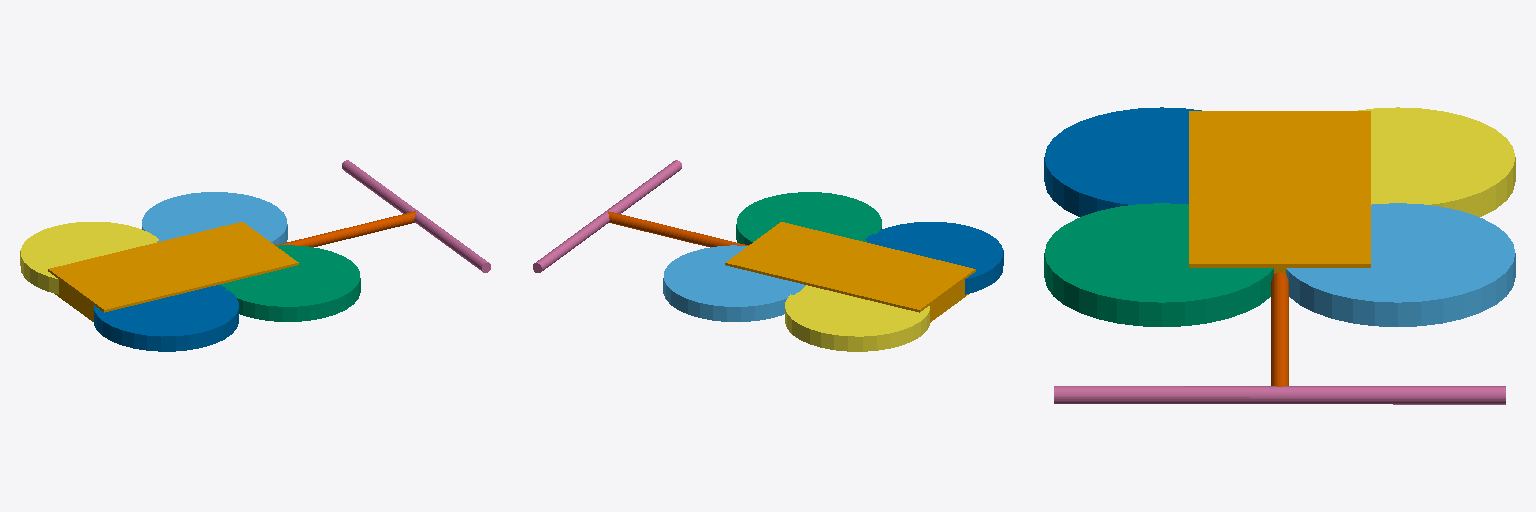
The robot description file, URDF, robot "drone":
<?xml version="1.0"?>
   <robot name="drone">

     <link name="base_link">
       <visual>
		 <origin xyz="0 0 0" rpy="0 0 0" />
         <geometry>
           <box size="0.4 0.2 0.04"/>
         </geometry>
       </visual>
       <collision>
		  <origin xyz="0 0 0" rpy="0 0 0" />
          <geometry>
            <box size="0.4 0.04 0.04"/>
          </geometry>
        </collision>
        <!--<inertial>
           <mass value="0.3"/>
           <inertia ixx="1.0" ixy="0.0" ixz="0.0" iyy="1.0" iyz="0.0" izz="1.0"/>
         </inertial>-->
     </link>

     <link name="FL">
       <visual>
		 <origin xyz="0.16 0.13 0" rpy="0 0 0" />
         <geometry>
            <cylinder length="0.03" radius="0.13"/>
         </geometry>
       </visual>
       <collision>
          <origin xyz="0.16 0.13 0" rpy="0 0 0" />
          <geometry>
            <cylinder length="0.03" radius="0.13"/>
          </geometry>
        </collision>
        <inertial>
           <mass value="0.2"/>
           <inertia ixx="1.0" ixy="0.0" ixz="0.0" iyy="1.0" iyz="0.0" izz="1.0"/>
         </inertial>
     </link>
     <link name="FR">
       <visual>
		 <origin xyz="0.16 -0.13 0" rpy="0 0 0" />
         <geometry>
            <cylinder length="0.03" radius="0.13"/>
         </geometry>
       </visual>
       <collision>
          <origin xyz="0.16 -0.13 0" rpy="0 0 0" />
          <geometry>
            <cylinder length="0.03" radius="0.13"/>
          </geometry>
        </collision>
        <inertial>
           <mass value="0.2"/>
           <inertia ixx="1.0" ixy="0.0" ixz="0.0" iyy="1.0" iyz="0.0" izz="1.0"/>
         </inertial>
     </link>
     <link name="BL">
       <visual>
		 <origin xyz="-0.09 0.13 0" rpy="0 0 0" />
         <geometry>
            <cylinder length="0.03" radius="0.13"/>
         </geometry>
       </visual>
       <collision>
          <origin xyz="-0.09 0.13 0" rpy="0 0 0" />
          <geometry>
            <cylinder length="0.03" radius="0.13"/>
          </geometry>
        </collision>
        <inertial>
           <mass value="0.2"/>
           <inertia ixx="1.0" ixy="0.0" ixz="0.0" iyy="1.0" iyz="0.0" izz="1.0"/>
         </inertial>
     </link>
     <link name="BR">
       <visual>
		 <origin xyz="-0.09 -0.13 0" rpy="0 0 0" />
         <geometry>
            <cylinder length="0.03" radius="0.13"/>
         </geometry>
       </visual>
       <collision>
          <origin xyz="-0.09 -0.13 0" rpy="0 0 0" />
          <geometry>
            <cylinder length="0.03" radius="0.13"/>
          </geometry>
        </collision>
        <inertial>
           <mass value="0.2"/>
           <inertia ixx="1.0" ixy="0.0" ixz="0.0" iyy="1.0" iyz="0.0" izz="1.0"/>
         </inertial>
     </link>
     
     <link name="stick1">
       <visual>
		 <origin xyz="0.25 0 0" rpy="0 1.57 0" />
         <geometry>
            <cylinder length="0.5" radius="0.01"/>
         </geometry>
       </visual>
       <collision>
          <origin xyz="0 0 0" rpy="0 0 0" />
          <geometry>
            <cylinder length="0.5" radius="0.01"/>
          </geometry>
        </collision>
        <inertial>
           <mass value="0.1"/>
           <inertia ixx="1.0" ixy="0.0" ixz="0.0" iyy="1.0" iyz="0.0" izz="1.0"/>
         </inertial>
     </link>
     <link name="stick2">
       <visual>
		 <origin xyz="0.5 0 0" rpy="1.57 0 0" />
         <geometry>
            <cylinder length="0.5" radius="0.01"/>
         </geometry>
       </visual>
       <collision>
          <origin xyz="0 0 0" rpy="0 0 0" />
          <geometry>
            <cylinder length="0.5" radius="0.01"/>
          </geometry>
        </collision>
        <inertial>
           <mass value="0.1"/>
           <inertia ixx="1.0" ixy="0.0" ixz="0.0" iyy="1.0" iyz="0.0" izz="1.0"/>
         </inertial>
     </link>
     
	 
     <joint name="base_to_FL" type="fixed">
       <parent link="base_link"/>
       <child link="FL"/>
     </joint>
     <joint name="base_to_FR" type="fixed">
       <parent link="base_link"/>
       <child link="FR"/>
     </joint>
     <joint name="base_to_BL" type="fixed">
       <parent link="base_link"/>
       <child link="BL"/>
     </joint>
     <joint name="base_to_BR" type="fixed">
       <parent link="base_link"/>
       <child link="BR"/>
     </joint>
     
     <joint name="base_to_stick1" type="fixed">
       <parent link="base_link"/>
       <child link="stick1"/>
     </joint>
     <joint name="stick1_to_stick2" type="fixed">
       <parent link="stick1"/>
       <child link="stick2"/>
     </joint>
     
     
   </robot>

--- What the picture shows (computed from the rendered views, not written in the file) ---
Views: 3 orthographic renders of the robot side by side, from view 1: azimuth 30°, elevation 25°; view 2: azimuth 150°, elevation 25°; view 3: azimuth 270°, elevation 25°.
Robot: drone — 7 links, 6 joints (6 fixed); root link base_link; default pose: every joint at zero.
Links seen in each view (by area): view 1: base_link, FR, BR, FL, BL, stick2, stick1; view 2: base_link, FL, BL, FR, BR, stick2, stick1; view 3: base_link, FL, FR, BL, BR, stick2, stick1.
Link boxes in pixels (bbox=[...]): base_link: bbox=[48, 222, 298, 321]; FR: bbox=[220, 245, 360, 321]; BR: bbox=[94, 285, 238, 351]; FL: bbox=[142, 192, 287, 244]; BL: bbox=[20, 222, 158, 294]; stick2: bbox=[342, 160, 490, 272]; stick1: bbox=[275, 211, 415, 246]; base_link: bbox=[725, 222, 975, 322]; FL: bbox=[663, 245, 805, 321]; BL: bbox=[785, 285, 929, 351]; FR: bbox=[736, 192, 881, 244]; BR: bbox=[865, 222, 1003, 294]; stick2: bbox=[533, 160, 681, 272]; stick1: bbox=[608, 211, 748, 247]; base_link: bbox=[1189, 111, 1370, 273]; FL: bbox=[1286, 203, 1515, 326]; FR: bbox=[1044, 203, 1273, 326]; BL: bbox=[1358, 107, 1515, 216]; BR: bbox=[1044, 107, 1201, 216]; stick2: bbox=[1054, 386, 1505, 404]; stick1: bbox=[1271, 272, 1288, 386].
Size in the robot's own frame: 0.73 by 0.52 by 0.04 metres.
Geometry: primitives only (box / cylinder / sphere), no mesh files.